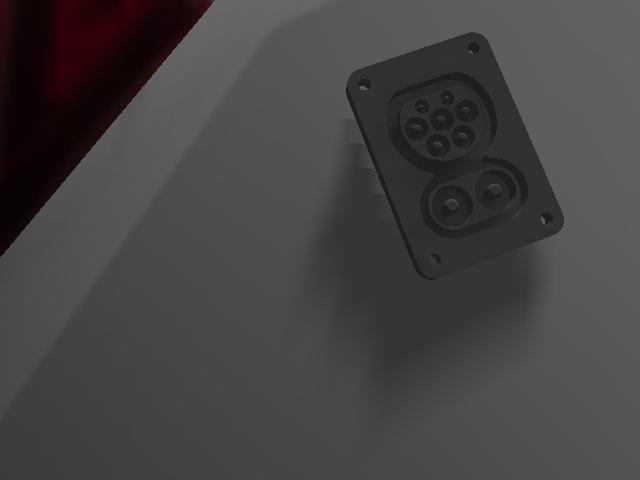EV-socket: (347, 33, 561, 275)
